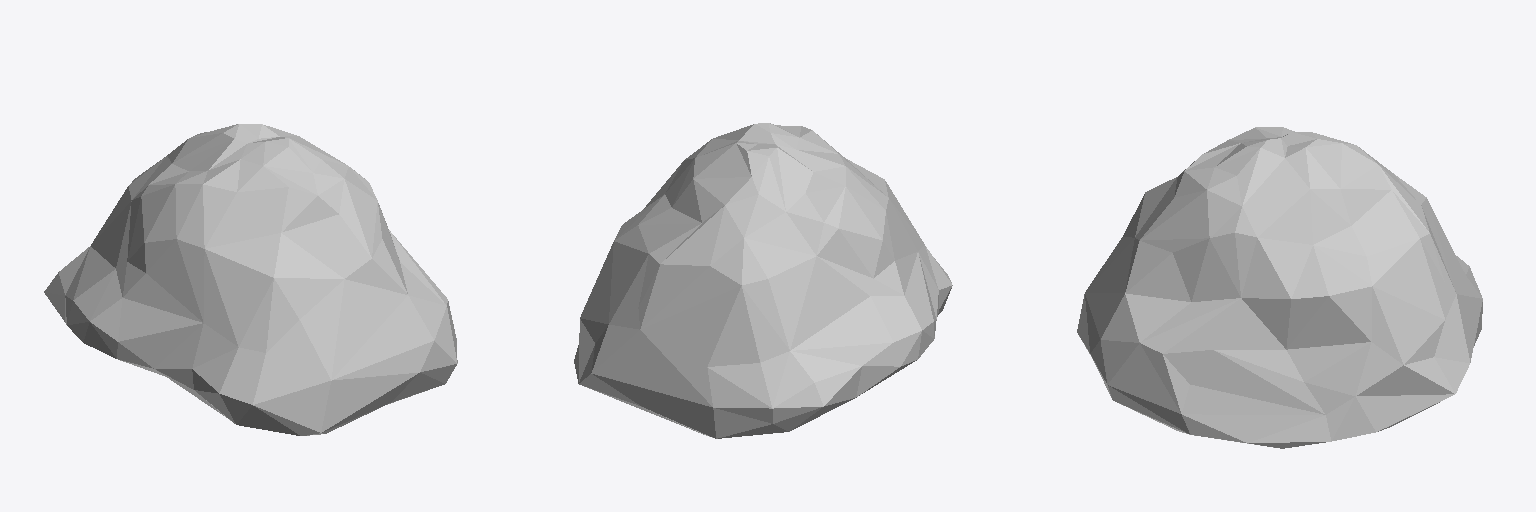
The model's file is Rock1.obj.
3 renders of one model, left to right at view 1: azimuth 30°, elevation 25°; view 2: azimuth 150°, elevation 25°; view 3: azimuth 270°, elevation 25°, orthographic.
Parts seen in each view (by area): view 1: Sphere; view 2: Sphere; view 3: Sphere.
Part boxes in pixels (bbox=[...]): Sphere: bbox=[44, 124, 457, 435]; Sphere: bbox=[574, 123, 952, 438]; Sphere: bbox=[1077, 127, 1482, 448].
Size of the model in its own units: 3.19 by 2.26 by 3.48.